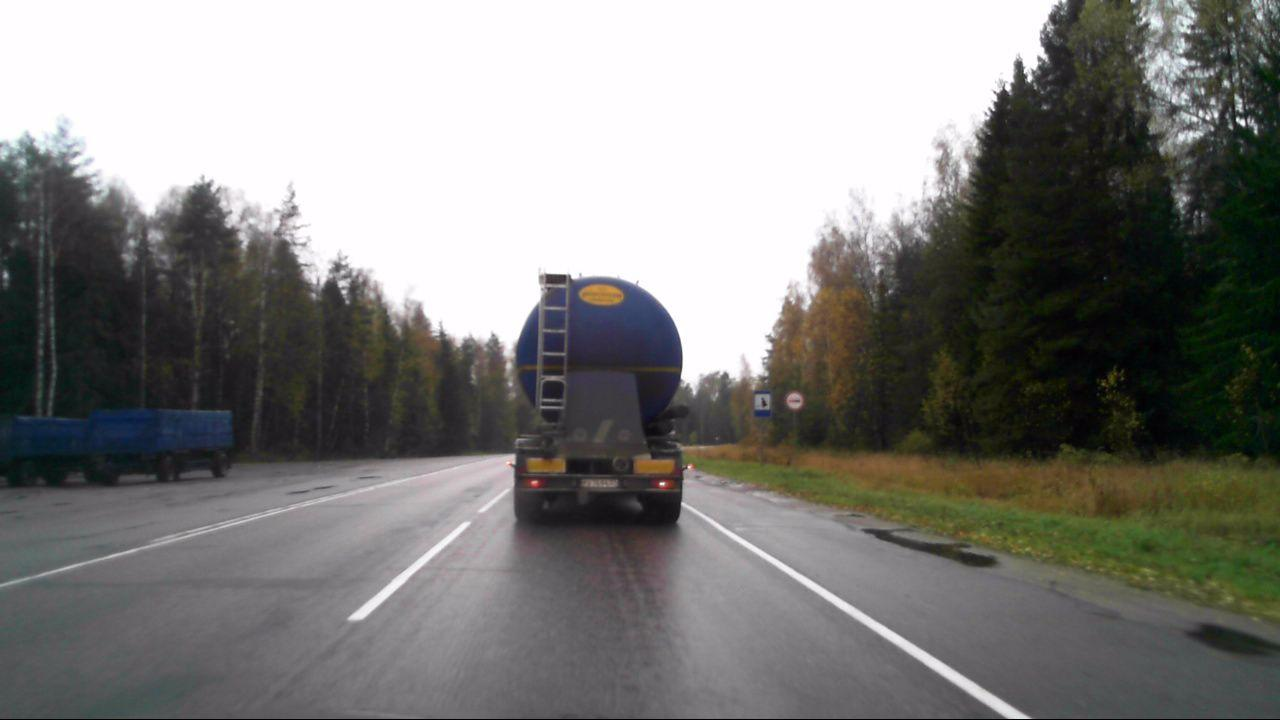road_sign: (783, 388, 806, 411), (753, 390, 771, 418)
